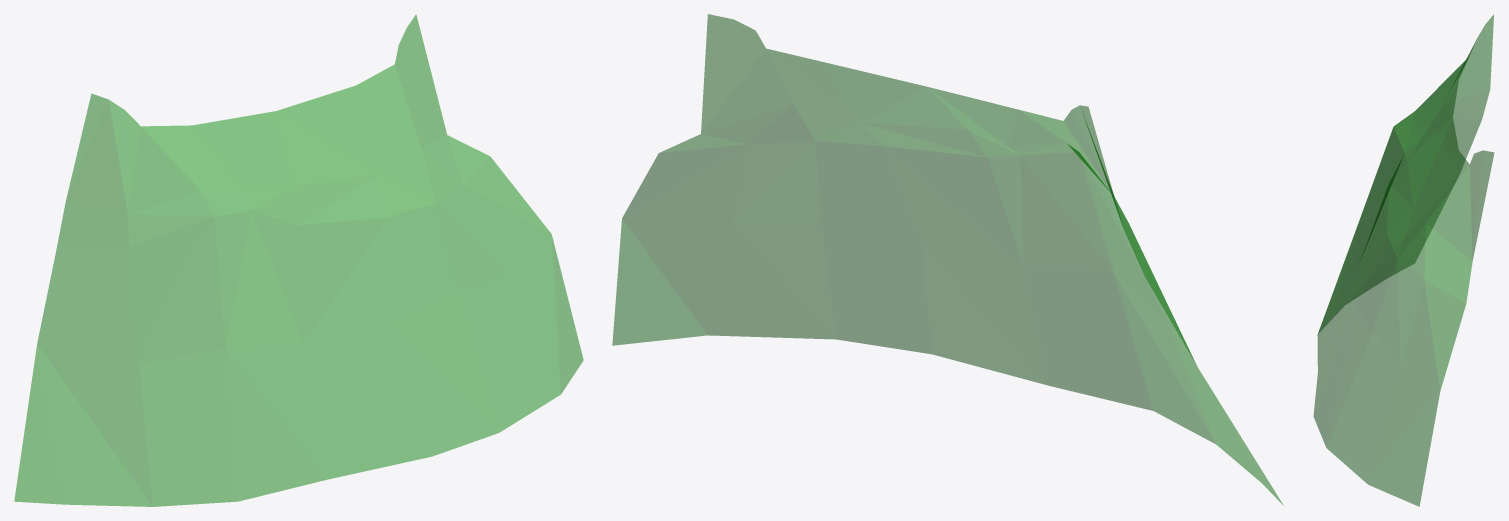
Rendered from wall18.obj.
3 views of the same model, side by side, from view 1: azimuth 30°, elevation 25°; view 2: azimuth 150°, elevation 25°; view 3: azimuth 270°, elevation 25° (orthographic). The views are drawn at different scales.
Bounding box in the file's own units: 133 × 76.77 × 41.79.
